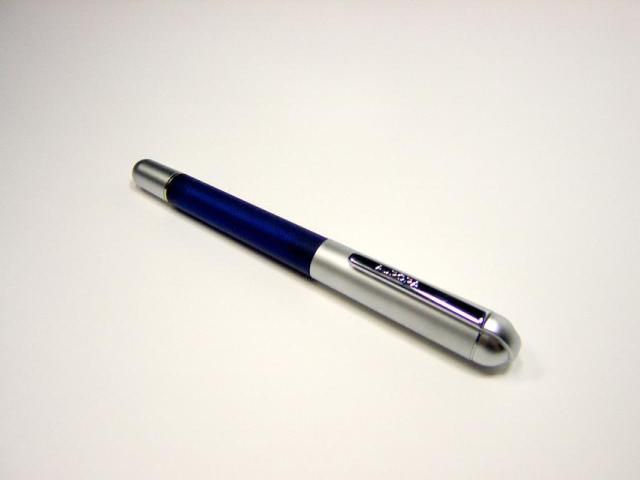PEN: (125, 152, 586, 401)
